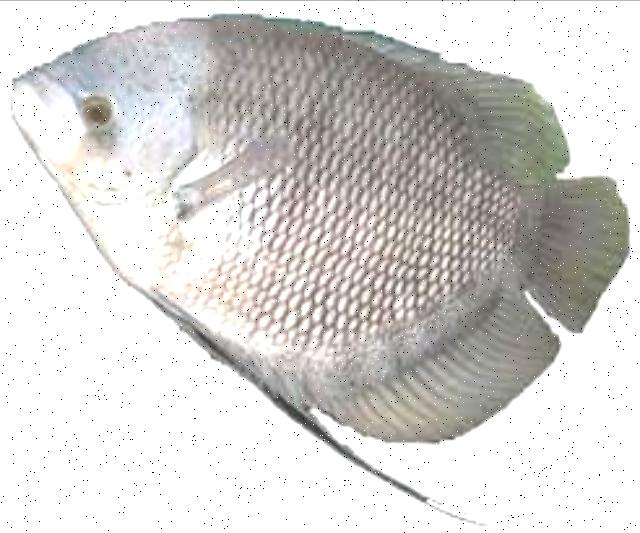Mulut: (0, 48, 91, 158)
Sirip Anal: (310, 274, 580, 458)
Sirip Dada: (142, 112, 334, 246)
Sirip Ekor: (518, 165, 640, 340)
Sirip Perut: (120, 267, 496, 532)
Sirip Punggung: (276, 8, 582, 194)
